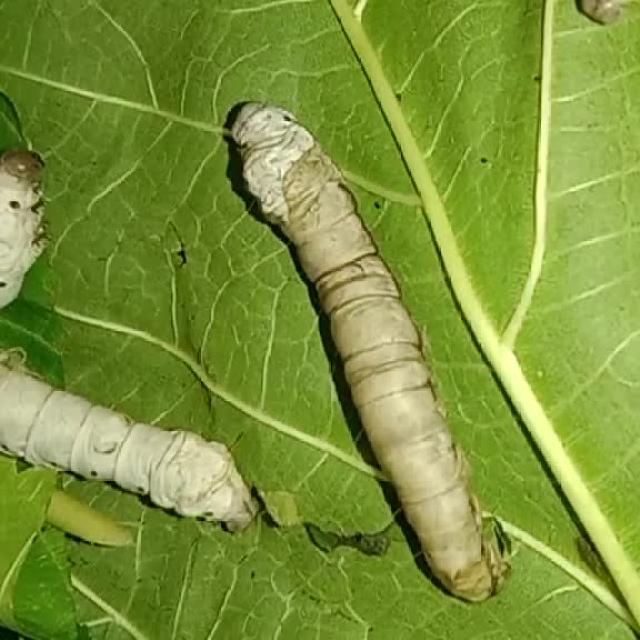Grasserie: (222, 84, 525, 605)
